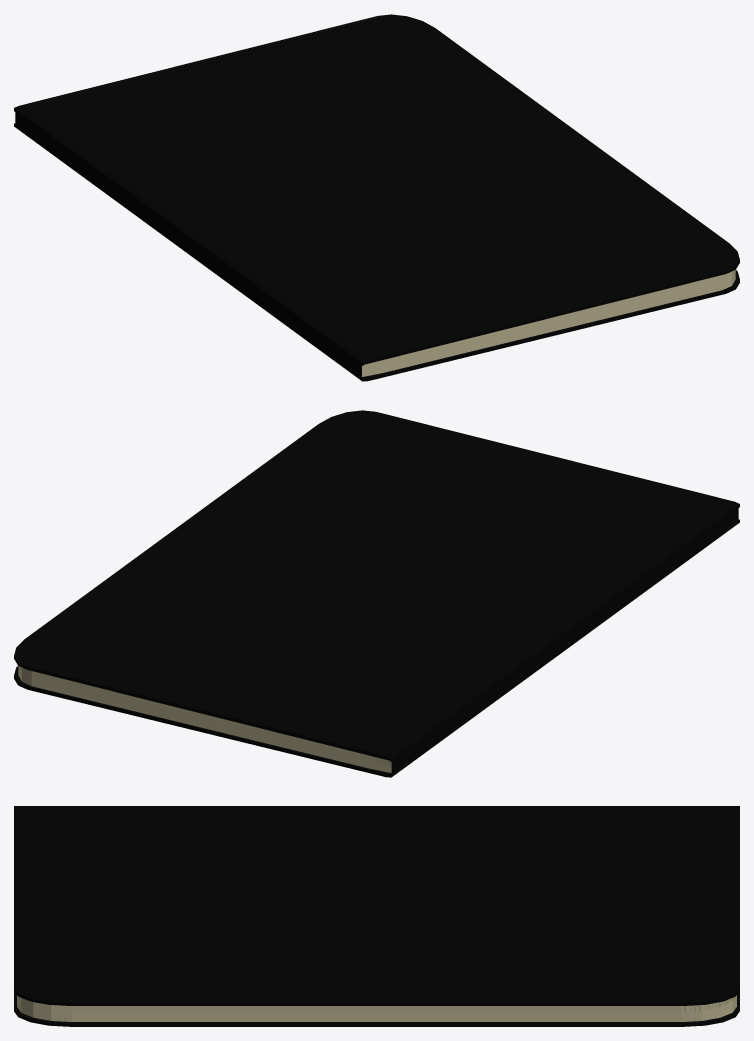
File: notebook4.glb
3 views of the same model, one above another, from view 1: azimuth 30°, elevation 25°; view 2: azimuth 150°, elevation 25°; view 3: azimuth 270°, elevation 25° (orthographic). The views are drawn at different scales.
Parts seen in each view (by area): view 1: Plane.001, Plane; view 2: Plane.001, Plane; view 3: Plane.001, Plane.
Part boxes in pixels (<box>): Plane.001: <box>14,14,739,374</box>; Plane: <box>14,118,739,381</box>; Plane.001: <box>14,410,739,768</box>; Plane: <box>14,514,739,777</box>; Plane.001: <box>14,806,739,1013</box>; Plane: <box>14,991,739,1026</box>.
Bounding box in the file's own units: 5.6 × 0.3135 × 8.57.
Materials: 3 (2 with a texture image).
